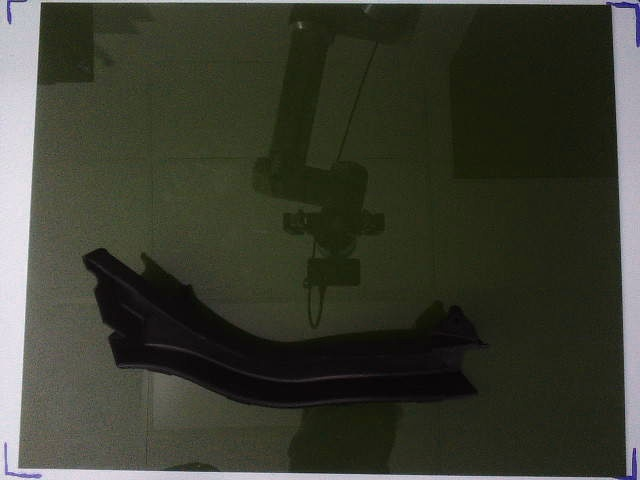887_A-Under: (84, 248, 490, 409)
